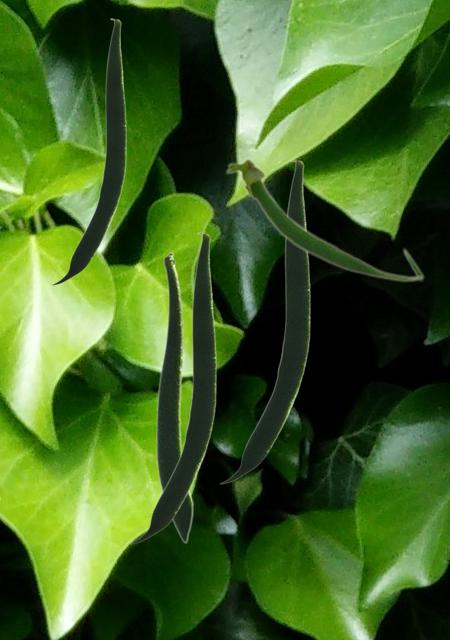french_bean: (219, 159, 309, 483), (129, 232, 215, 543), (224, 156, 424, 282), (51, 18, 125, 284), (155, 251, 193, 543)
